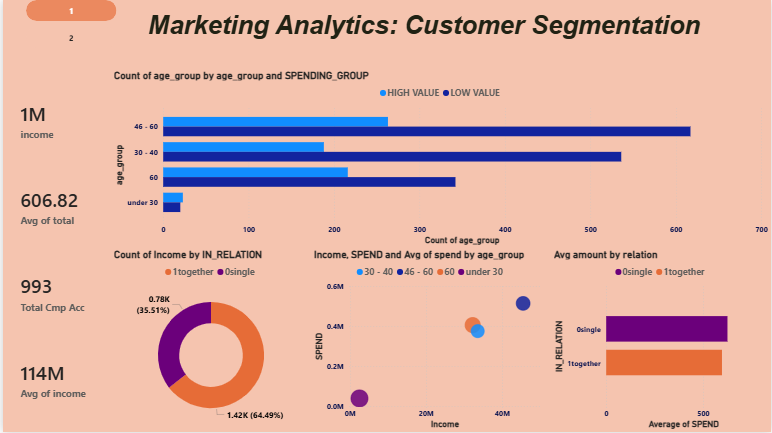

This screenshot's page, from the dashboard's own definition file:
{"tool":"powerbi","page":{"name":"1","canvas":[1280,720],"ordinal":0},"visuals":[{"type":"cardVisual","title":"   Revenue","fields":{"Data":["Sum(ifood.MNT_TOTAL)","Avg(ifood.MNT_TOTAL)","ifood.TOTAL CAMPAGIN ACCEPTANCES","Sum(ifood.Income)"]},"box":[0,115,180,605],"z":0},{"type":"donutChart","fields":{"Y":["CountNonNull(ifood.Income)"],"Category":["ifood.IN_RELATION"]},"box":[180,413.3,333.3,306.7],"z":1000},{"type":"barChart","title":"Avg amount by relation","fields":{"Category":["ifood.IN_RELATION"],"Y":["Avg(ifood.MNT_TOTAL)"],"Series":["ifood.IN_RELATION"]},"box":[913.3,413.3,366.7,306.7],"z":2000},{"type":"scatterChart","fields":{"X":["Sum(ifood.Income)"],"Y":["Sum(ifood.MNT_TOTAL)"],"Size":["Avg(ifood.SPEND)"],"Series":["ifood.age_group"]},"box":[513.3,413.3,400,306.7],"z":3000},{"type":"clusteredBarChart","fields":{"Y":["CountNonNull(ifood.age_group)"],"Series":["ifood.SPENDING_GROUP"],"Category":["ifood.age_group"]},"box":[180,115,1100,298.3],"z":4000},{"type":"textbox","box":[180,13.3,1043.3,101.7],"z":5000},{"type":"pageNavigator","box":[38.3,0,151.7,81.7],"z":5001}]}

Visuals, with their boxes in screenshot pixels (x1, y1, x2, y2), scaled from the page's 1280x720 canvas onto the 772x433 screenshot:
"   Revenue" cardVisual: 0,69,109,432
donutChart - CountNonNull(ifood.Income) x ifood.IN_RELATION: 109,249,310,432
"Avg amount by relation" barChart: 551,249,771,432
scatterChart - Sum(ifood.Income) x Sum(ifood.MNT_TOTAL): 310,249,551,432
clusteredBarChart - CountNonNull(ifood.age_group) x ifood.SPENDING_GROUP: 109,69,771,249
textbox: 109,8,738,69
pageNavigator: 23,0,115,49
